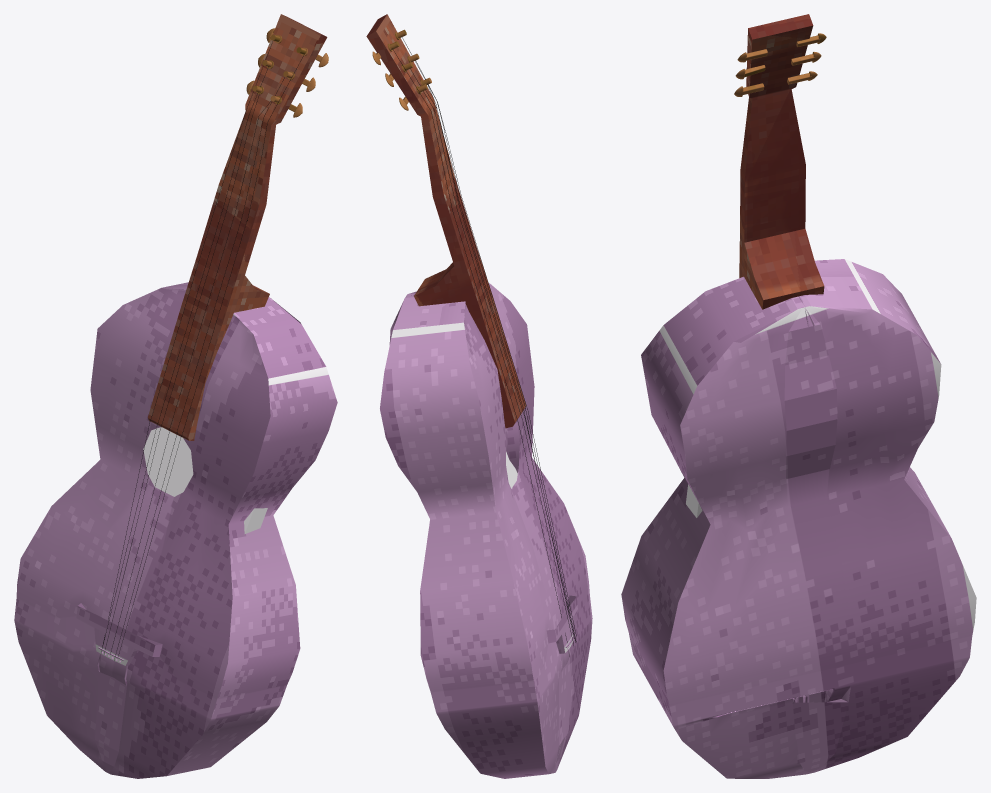
Rendered from Chitarra.fbx.
3 renders of one model, left to right at view 1: azimuth 30°, elevation 25°; view 2: azimuth 150°, elevation 25°; view 3: azimuth 270°, elevation 25°, orthographic. The views are drawn at different scales.
Parts seen in each view (by area): view 1: chitarra2.054; view 2: chitarra2.054; view 3: chitarra2.054.
Part boxes in pixels (x1=…): chitarra2.054: x1=14, y1=14, x2=337, y2=778; chitarra2.054: x1=366, y1=14, x2=592, y2=778; chitarra2.054: x1=621, y1=14, x2=976, y2=778.
Bounding box in the file's own units: 0.2826 × 0.8171 × 0.3113.
Materials: 4 (3 with a texture image).
